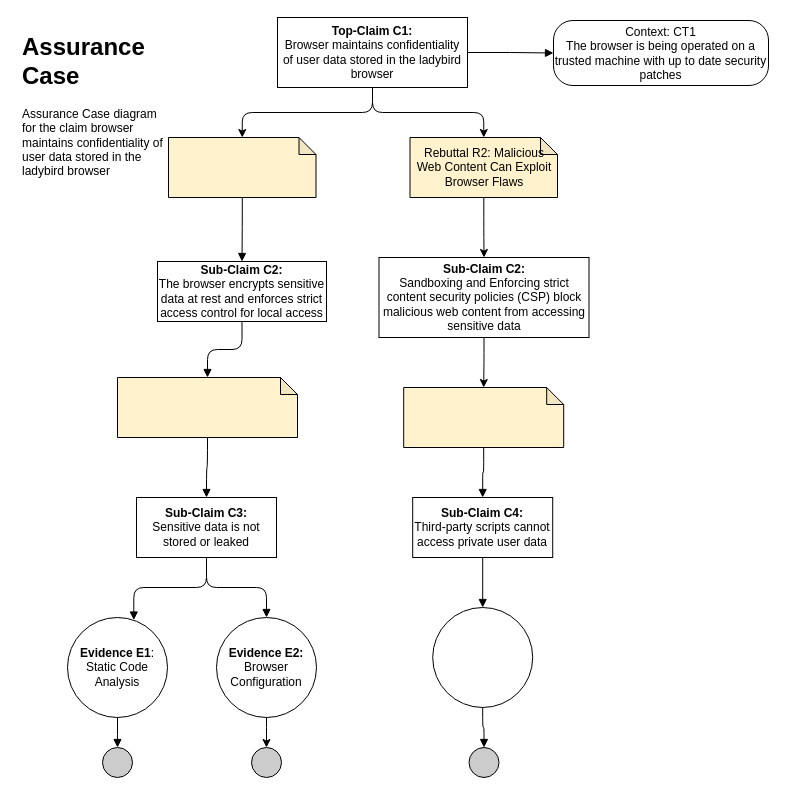
The diagram is 786 pixels wide and 795 high, and some of its shapes have lost their labels. Here are the shapes that lost their labels. From the top down, the centre of each, then its label:
point 242,167: Rebuttal R1: Insufficient Protection of Stored Credentials and Local Data
point 207,407: Rebuttal R3: Encryption and access control may be miscofigured or incomplete
point 483,417: Rebuttal R4: Browser executes third-party scripts that expose user data
point 482,657: Evidence E3: Statoc Code Analysis
